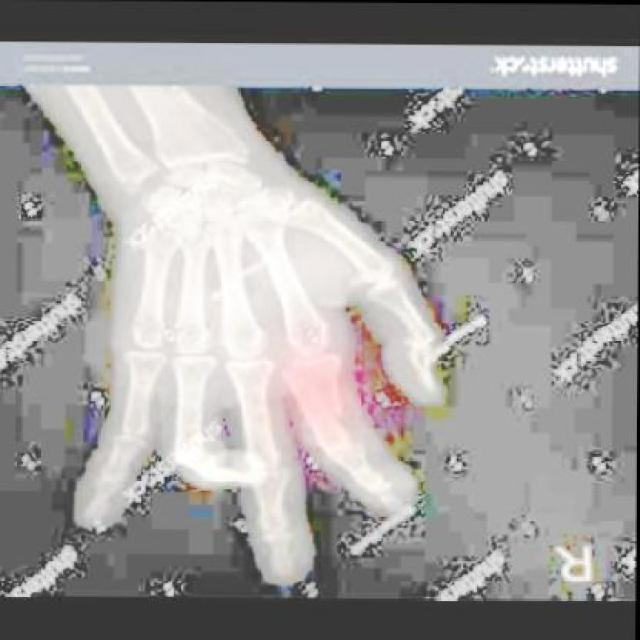Fracture: (289, 356, 342, 433)
